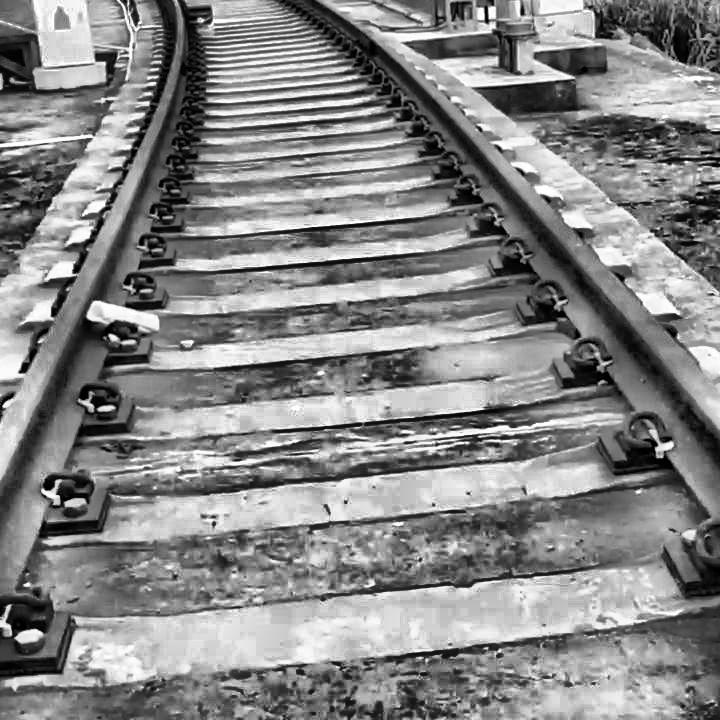Trash: (75, 287, 170, 344), (176, 0, 225, 43)
